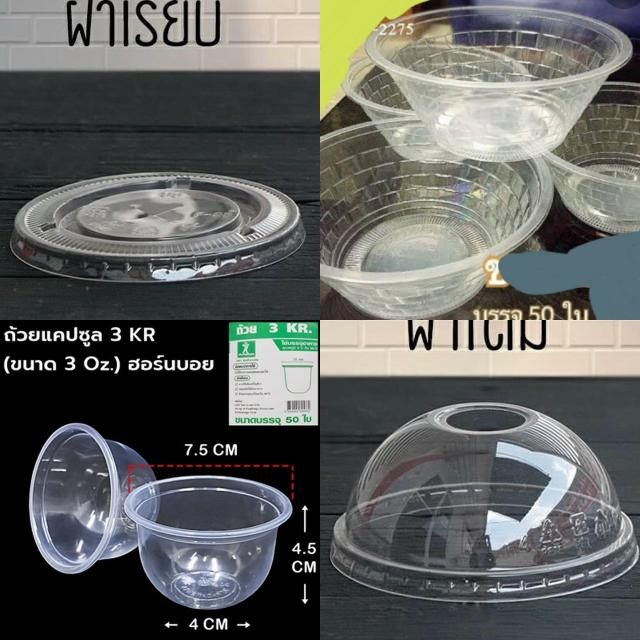Single-Use-Plastic: (330, 402, 639, 602), (321, 122, 552, 319), (365, 6, 632, 162), (10, 172, 305, 282), (124, 476, 292, 609), (29, 424, 155, 574), (544, 82, 640, 233)
